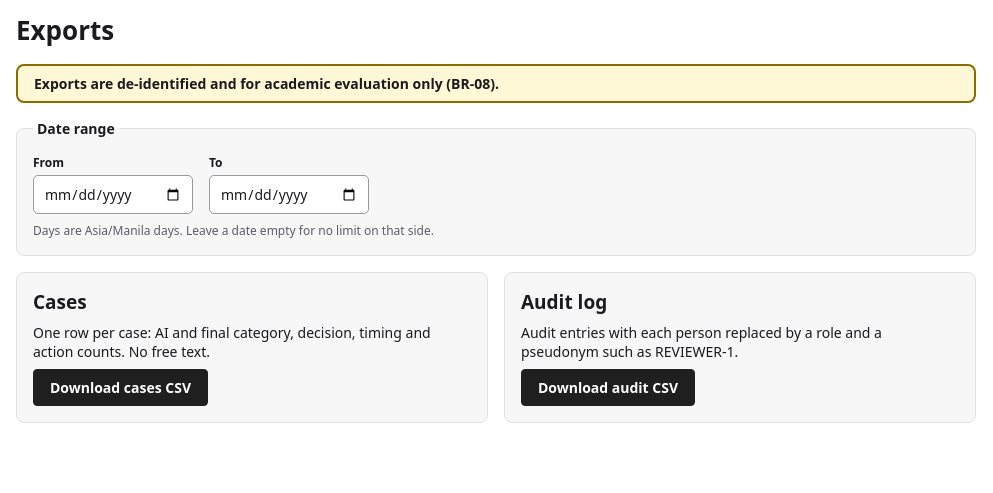
Scenario: failures › shows the server's message for an invalid range
Click the button "Download cases CSV": [120, 388] box left=33, top=369, right=208, bottom=406
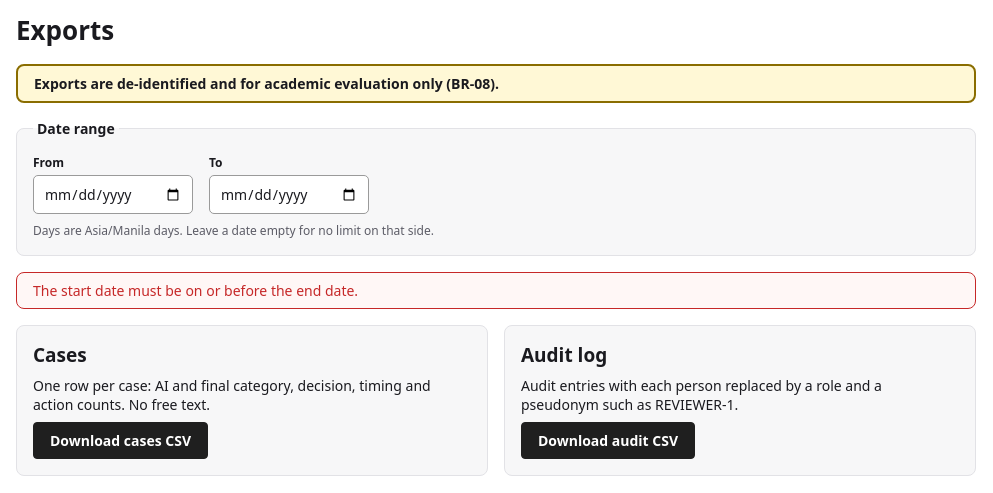
expect the message reads "The start date must be on or before the end date.": met, box left=33, top=281, right=358, bottom=300
